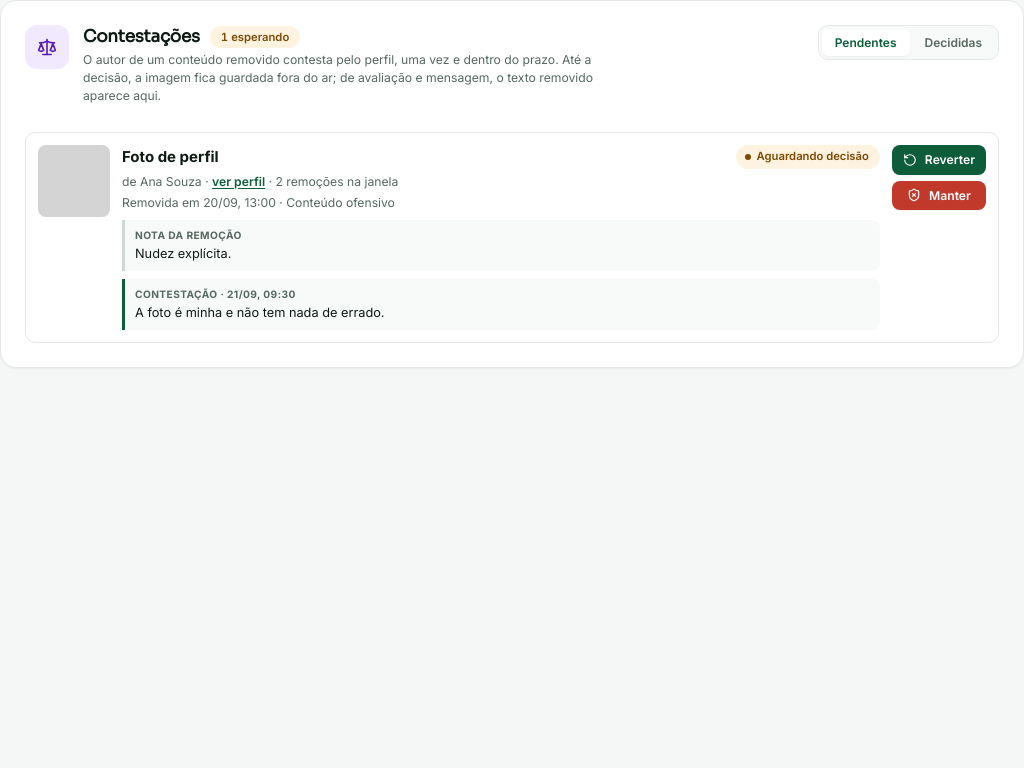
it: AppealsSection: a fila › "Decididas" busca as decididas e mostra a decisão com a nota, sem botões
Check: the text "Foto de perfil" is shown, box [122,146,219,168]
Click the tab "Decididas" at (953, 42), box [912,29,995,56]
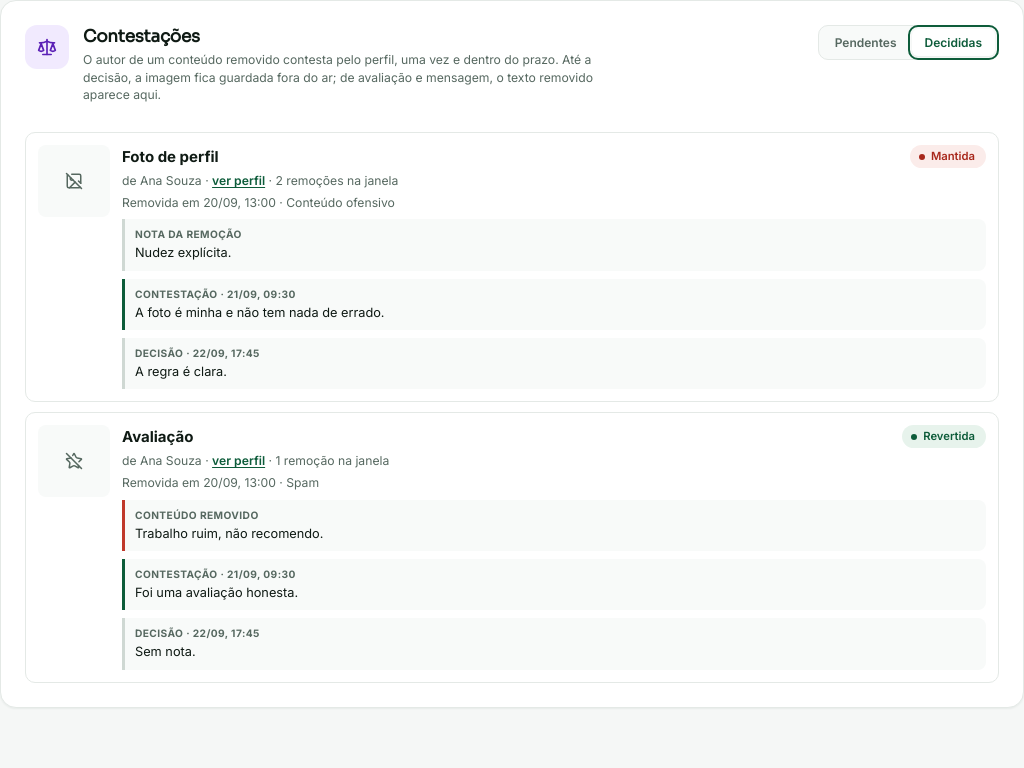
Check: the text "Mantida" is shown, box [910,145,986,168]
Check: the button "Reverter" is gone
Check: the button "Manter" is gone
Click the tab "Pendentes" at (866, 42), box [822,29,910,56]
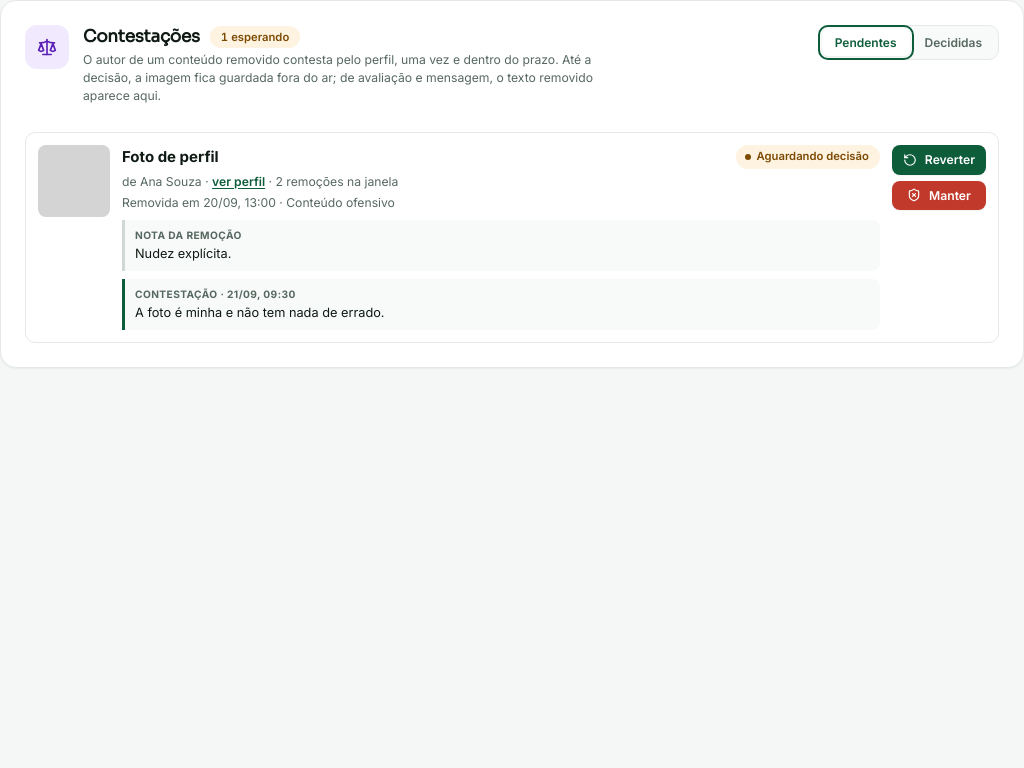
Check: the button "Reverter" is shown, box [892,145,986,174]
